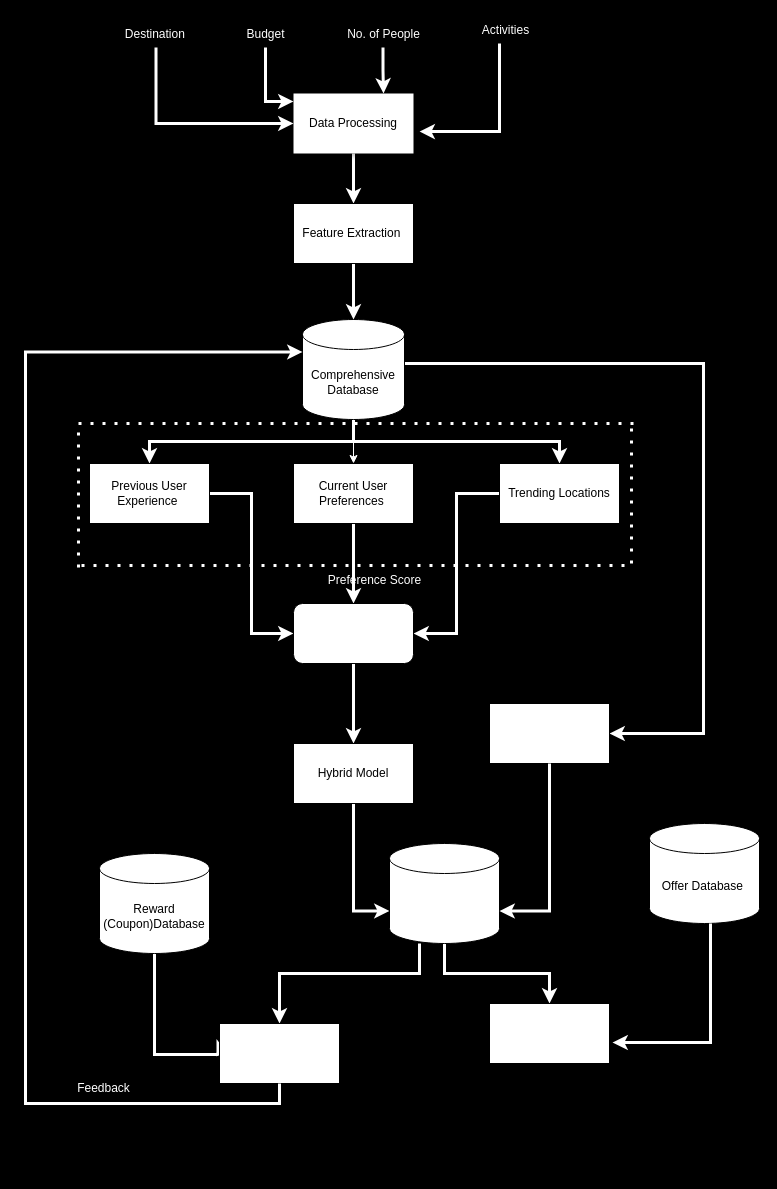
Image size: 777x1189. Some labels were removed from this diagram. The shapes that lost their labels are listed below. From the top down, each one's centre as x and y in pixels, then its label:
point (353, 633): Weighted Average
point (549, 733): Associative Rule Mining
point (444, 893): Preference Structure
point (279, 1053): Personalised Rewards
point (549, 1033): Personalised Notifications
